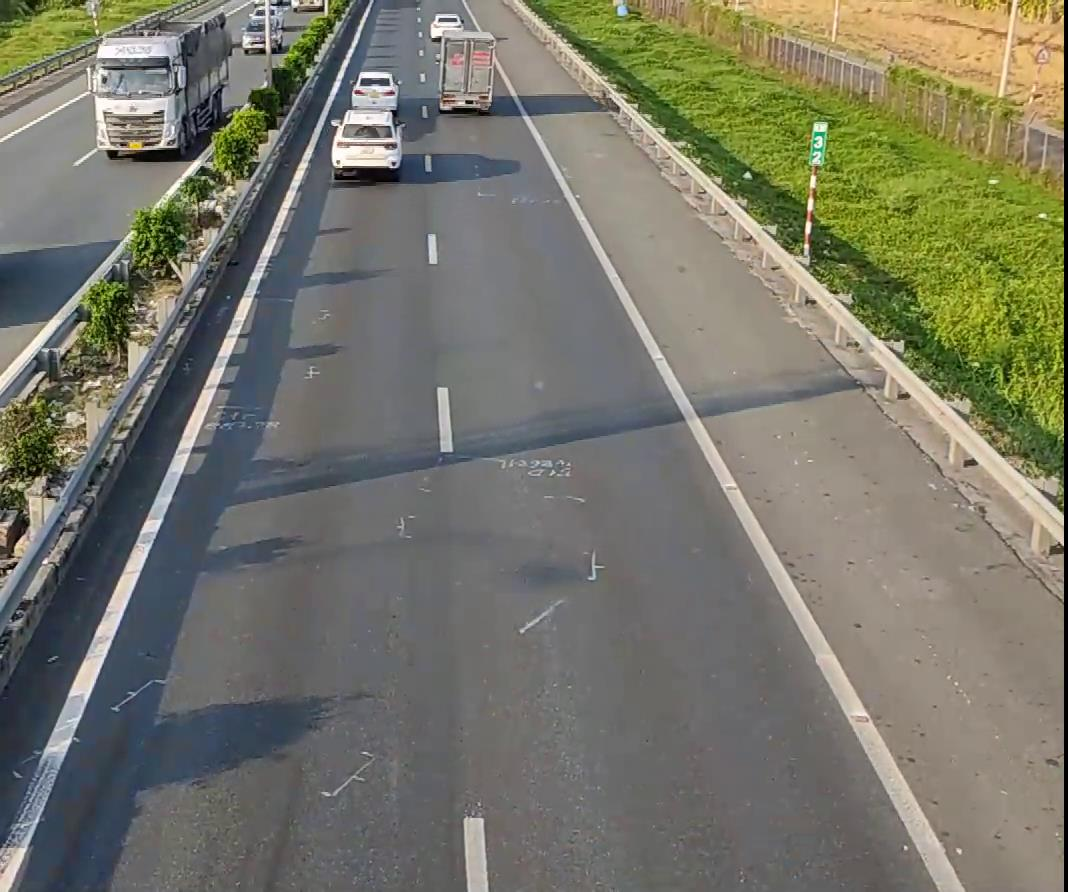car: (327, 109, 400, 179)
truck: (89, 13, 230, 157), (435, 21, 494, 112)
